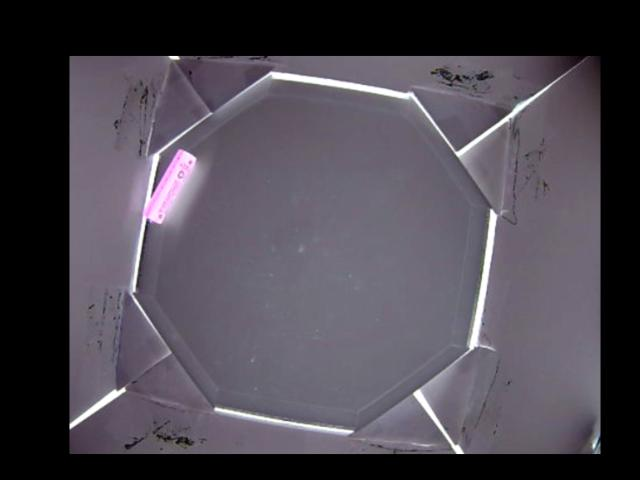Battery: (143, 148, 197, 225)
